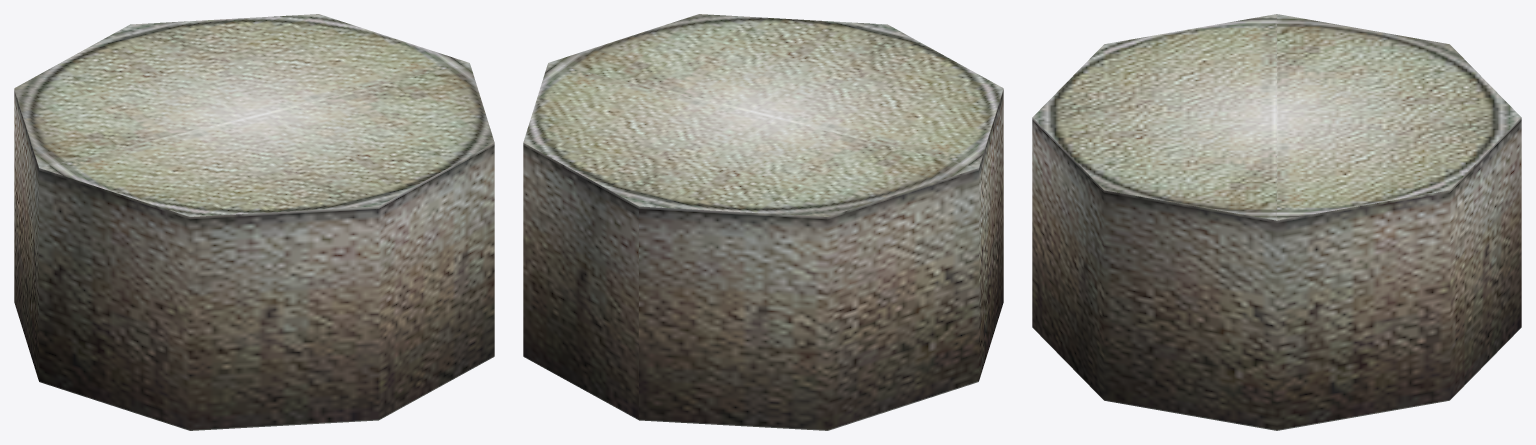
The model's file is Environment - Prop - Concrete Barricade - PMDRUM.glb.
3 views of the same model, side by side, from view 1: azimuth 30°, elevation 25°; view 2: azimuth 150°, elevation 25°; view 3: azimuth 270°, elevation 25° (orthographic).
Visible parts, largest first — view 1: PMDRUM; view 2: PMDRUM; view 3: PMDRUM.
Boxes of the visible parts, x1,y1,x2,y2 form: PMDRUM: (14, 14, 494, 430); PMDRUM: (523, 14, 1003, 430); PMDRUM: (1032, 14, 1521, 430).
Bounding box in the file's own units: 22.08 × 10.48 × 22.08.
1 material, 1 textured.
